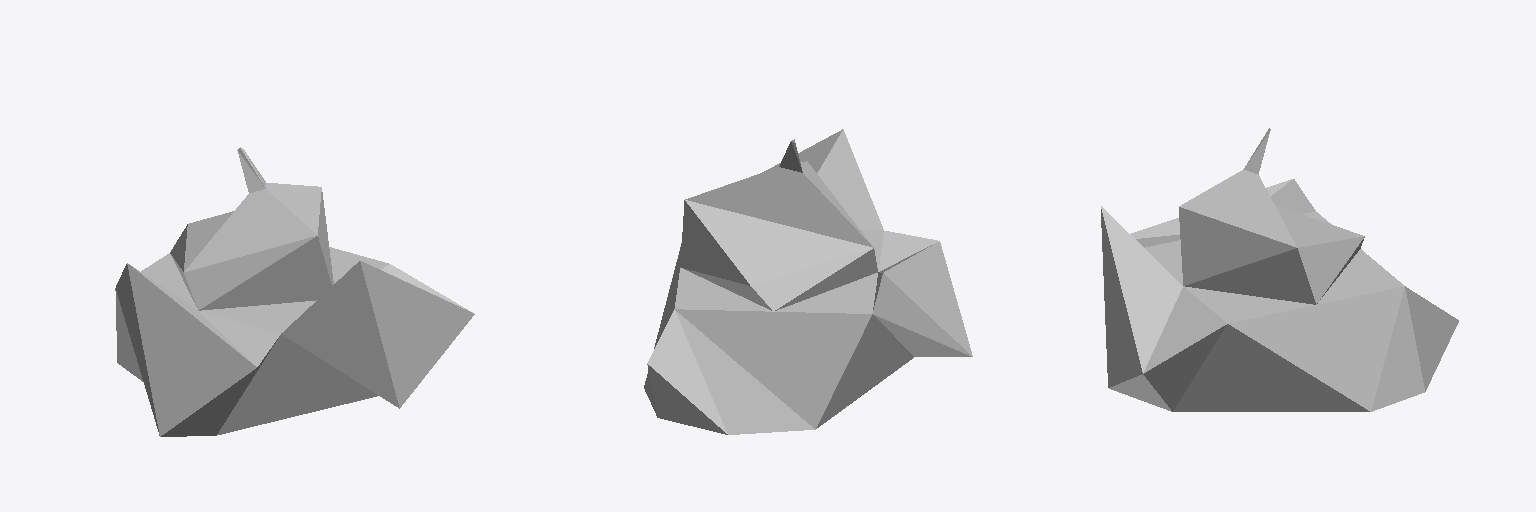
The model's file is Miner.obj.
3 renders of one model, left to right at view 1: azimuth 30°, elevation 25°; view 2: azimuth 150°, elevation 25°; view 3: azimuth 270°, elevation 25°, orthographic.
Parts seen in each view (by area): view 1: Cube_Cube.001; view 2: Cube_Cube.001; view 3: Cube_Cube.001.
Boxes of the visible parts, box(x1,y1,x2,y2) form: Cube_Cube.001: box(115, 147, 474, 436); Cube_Cube.001: box(644, 129, 972, 434); Cube_Cube.001: box(1101, 128, 1458, 411).
Size of the model in its own units: 7.01 by 5.25 by 7.24.